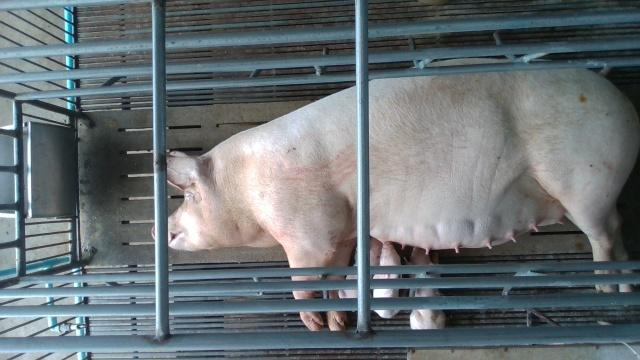piglet: (406, 246, 447, 331), (338, 238, 381, 300), (371, 243, 403, 319)
sow-sleep-lactate: (167, 62, 639, 330)
